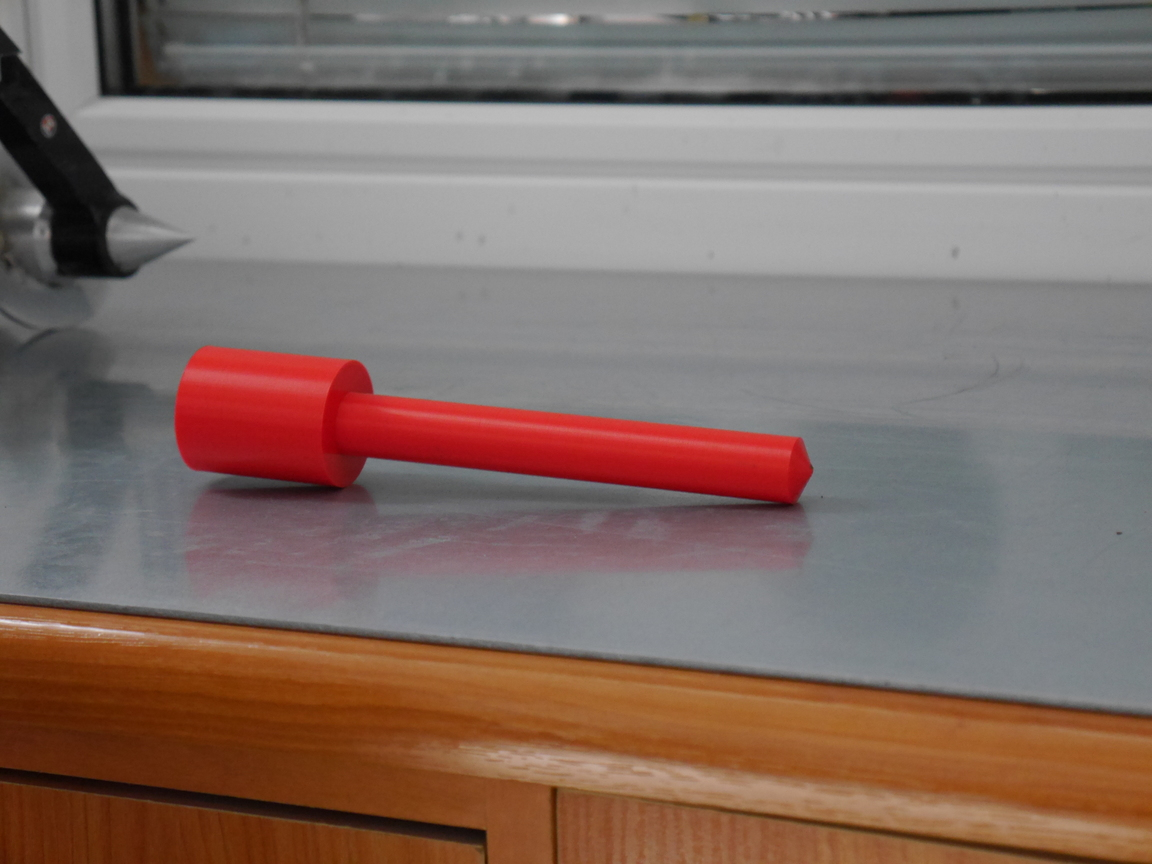cargo_g: (174, 346, 815, 507)
